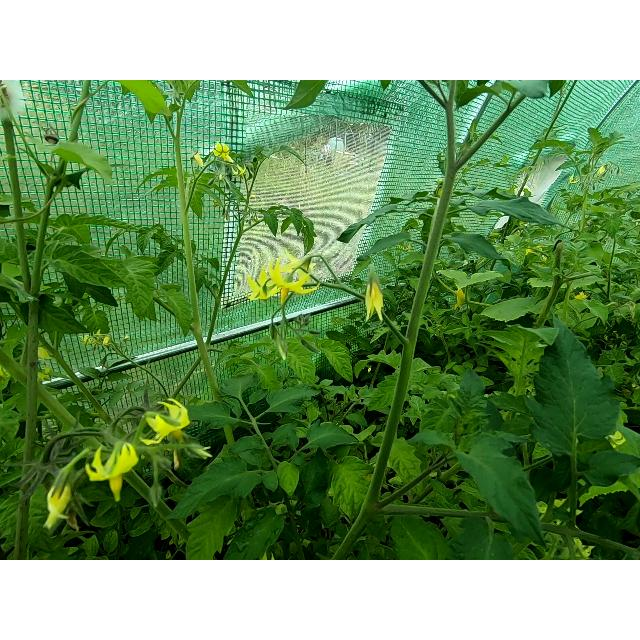Flowers: (245, 253, 323, 303), (86, 442, 140, 504), (38, 456, 76, 530), (140, 397, 190, 445), (358, 264, 388, 322), (210, 141, 236, 163), (449, 286, 469, 312), (83, 330, 113, 346), (230, 164, 250, 180), (190, 151, 208, 167), (37, 368, 53, 384), (38, 346, 52, 362), (574, 290, 588, 302), (596, 164, 608, 176), (567, 175, 581, 185), (525, 247, 533, 255)
